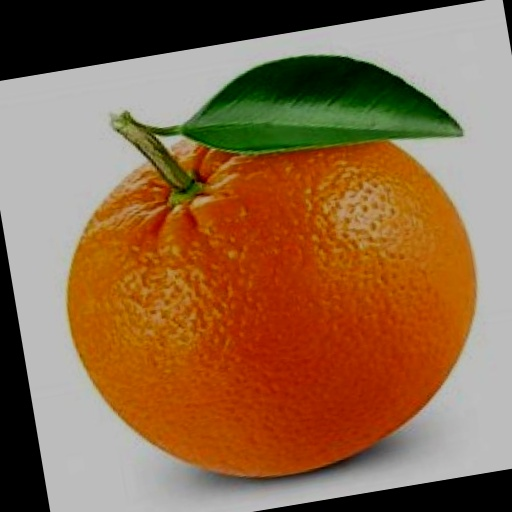fruit: (68, 142, 475, 476)
